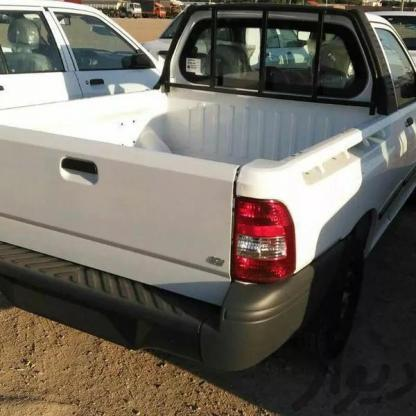Car: (0, 0, 416, 355), (0, 0, 168, 146), (138, 6, 319, 86)
